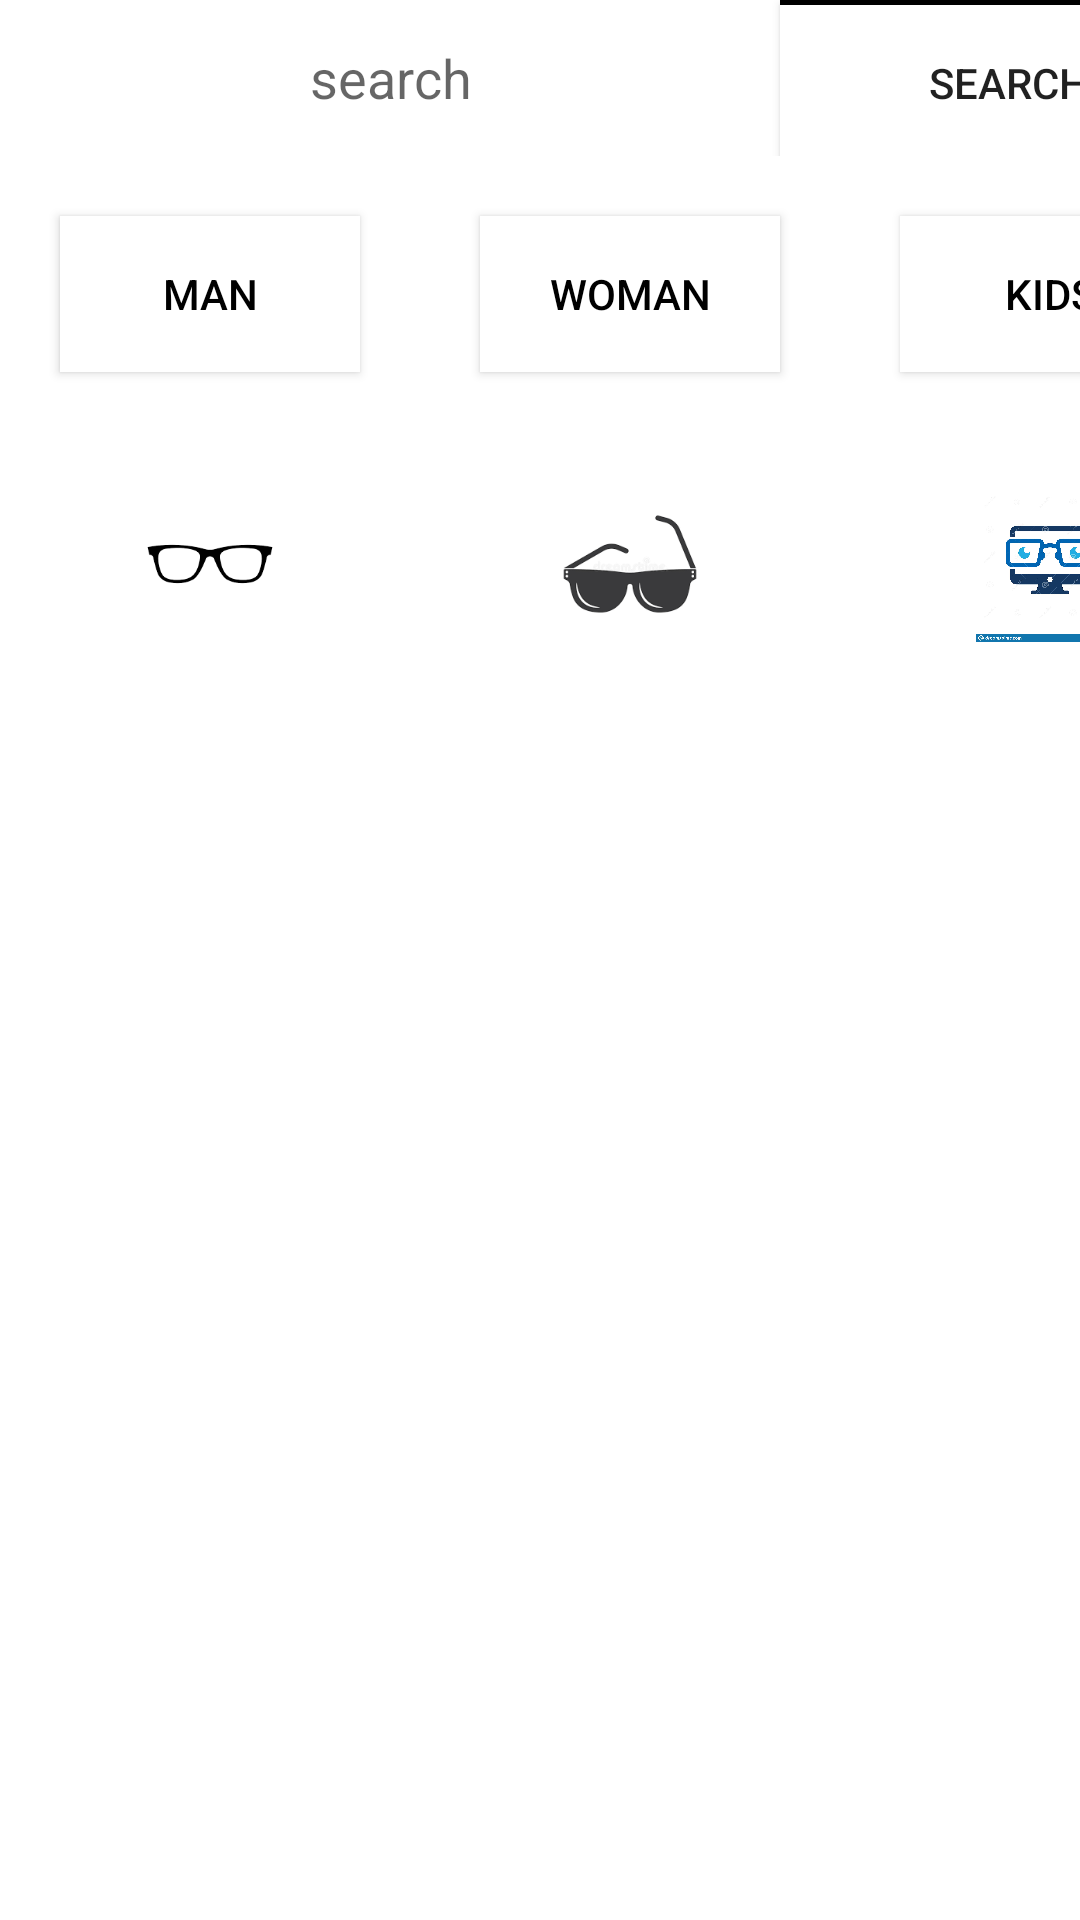

Icons on this 1080×1920 Android screen, each with the point to tap as point (x, y):
eyeg: point (210, 564)
